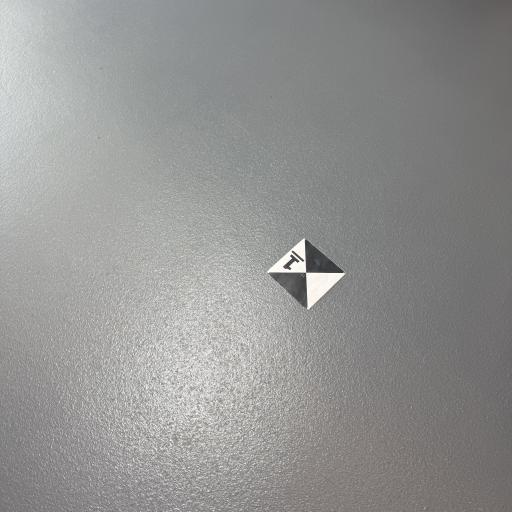target1: (264, 236, 350, 318)
